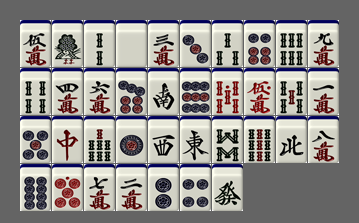0m: (244, 68, 275, 115)
0p: (52, 164, 83, 211)
0s: (212, 68, 243, 115)
1m: (308, 68, 339, 115)
1p: (116, 116, 147, 163)
1s: (52, 20, 83, 67)
1z: (180, 116, 211, 163)
2m: (116, 164, 147, 211)
2p: (148, 164, 179, 211)
2s: (84, 20, 115, 67)
2z: (148, 68, 179, 115)
3m: (148, 20, 179, 67)
3p: (180, 20, 211, 67)
3s: (212, 20, 243, 67)
3z: (148, 116, 179, 163)
4m: (52, 68, 83, 115)
4p: (180, 164, 211, 211)
4s: (20, 68, 51, 115)
4z: (276, 116, 307, 163)
5m: (20, 20, 51, 67)
5p: (20, 116, 51, 163)
5s: (276, 68, 307, 115)
5z: (116, 20, 147, 67)
6m: (84, 68, 115, 115)
6p: (244, 20, 275, 67)
6s: (276, 20, 307, 67)
6z: (212, 164, 243, 211)
7m: (84, 164, 115, 211)
7p: (116, 68, 147, 115)
7s: (84, 116, 115, 163)
7z: (52, 116, 83, 163)
8m: (308, 116, 339, 163)
8p: (20, 164, 51, 211)
8s: (212, 116, 243, 163)
9m: (308, 20, 339, 67)
9p: (180, 68, 211, 115)
9s: (244, 116, 275, 163)
